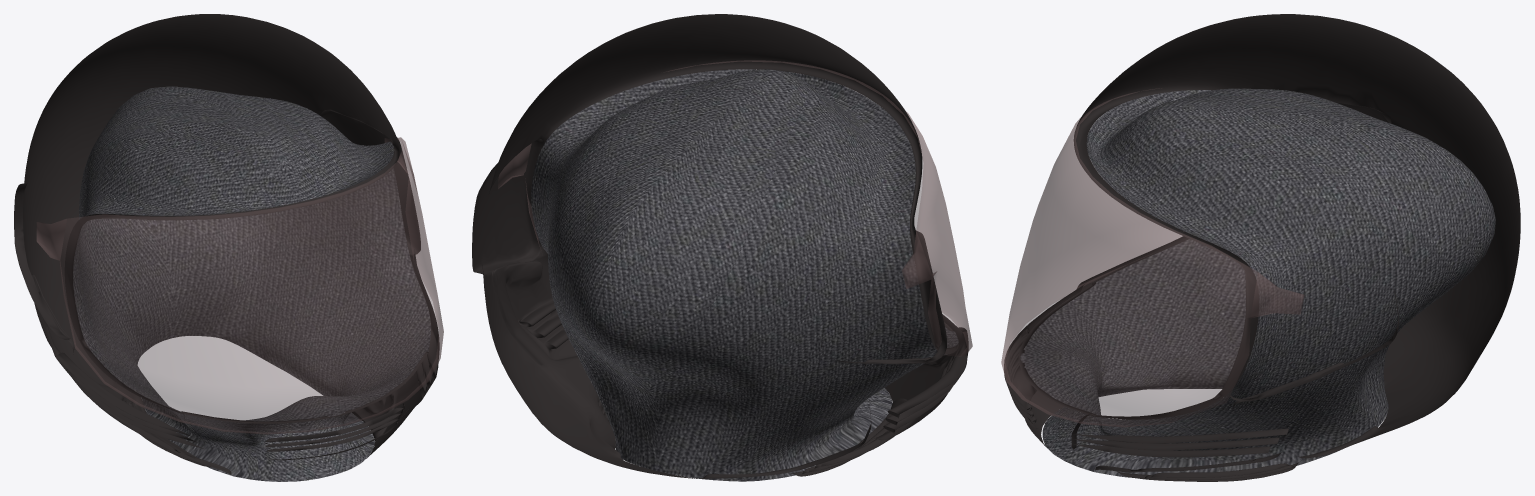
The model's file is fullface.glb.
The picture shows the model from 3 angles, left to right: view 1: azimuth 30°, elevation 25°; view 2: azimuth 150°, elevation 25°; view 3: azimuth 270°, elevation 25°; orthographic projection. The views are drawn at different scales.
Parts seen in each view (by area): view 1: Sphere.004, Sphere.001, Sphere; view 2: Sphere.004, Sphere, Sphere.001; view 3: Sphere.004, Sphere, Sphere.001.
Boxes of the visible parts, x1,y1,x2,y2 form: Sphere.004: [73, 86, 430, 481]; Sphere.001: [36, 137, 443, 434]; Sphere: [14, 14, 439, 474]; Sphere.004: [531, 69, 958, 481]; Sphere: [472, 14, 968, 478]; Sphere.001: [498, 60, 972, 356]; Sphere.004: [1020, 88, 1495, 477]; Sphere: [1004, 14, 1520, 481]; Sphere.001: [1001, 89, 1304, 427].
Size of the model in its own units: 8.51 by 8.12 by 9.59.
3 materials, 1 textured.
